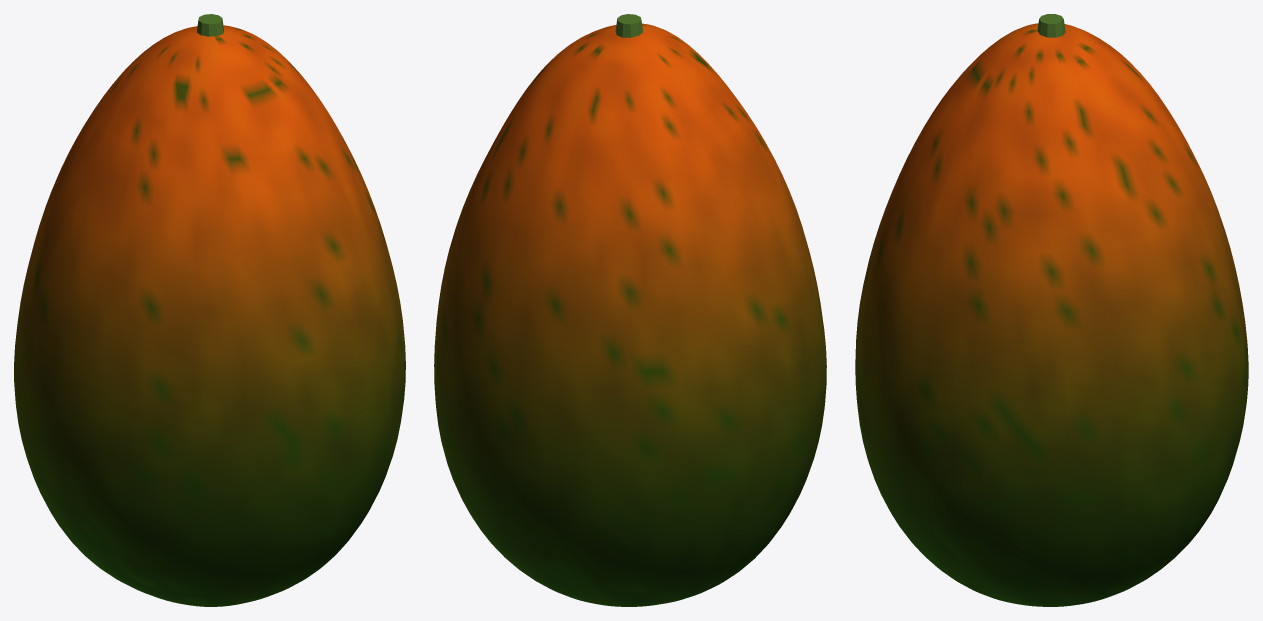
The model's file is papaye.glb.
3 views of the same model, side by side, from view 1: azimuth 30°, elevation 25°; view 2: azimuth 150°, elevation 25°; view 3: azimuth 270°, elevation 25° (orthographic).
Parts seen in each view (by area): view 1: entier_peau, moitie_B_peau, moitie_A_peau, entier_extra0; view 2: entier_peau, moitie_A_peau, moitie_B_peau, entier_extra0; view 3: entier_peau, moitie_A_peau, moitie_B_peau, entier_extra0.
Boxes of the visible parts, x1,y1,x2,y2 form: entier_peau: (14, 25, 405, 606); moitie_B_peau: (41, 29, 405, 606); moitie_A_peau: (14, 26, 260, 556); entier_extra0: (196, 14, 223, 36); entier_peau: (434, 23, 826, 606); moitie_A_peau: (435, 29, 799, 606); moitie_B_peau: (603, 25, 826, 552); entier_extra0: (615, 14, 642, 37); entier_peau: (855, 23, 1248, 606); moitie_A_peau: (1051, 24, 1247, 606); moitie_B_peau: (855, 24, 1050, 606); entier_extra0: (1037, 14, 1065, 37).
Bounding box in the file's own units: 1.27 × 2.04 × 1.27.
